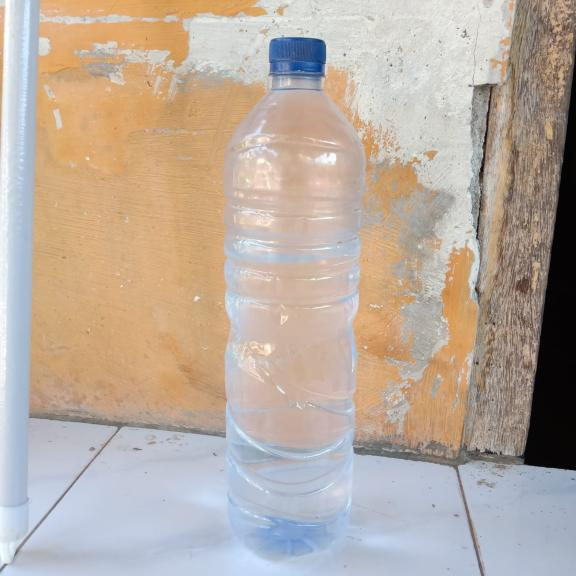Plastik: (228, 37, 362, 563)
